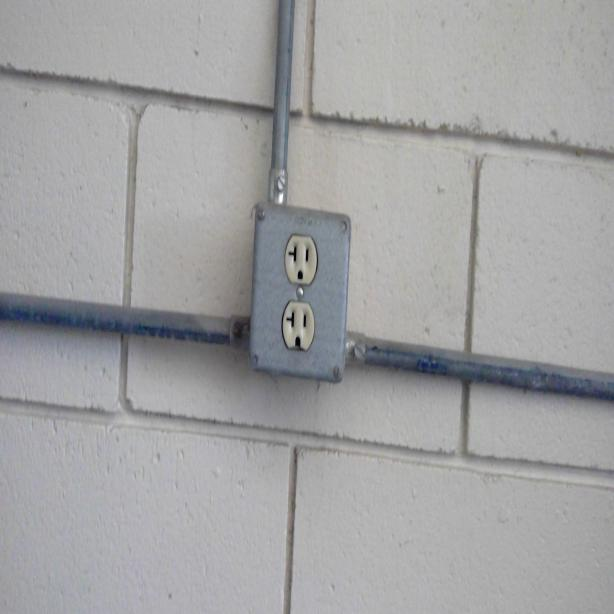typeb: (284, 304, 313, 351), (287, 236, 315, 283)
